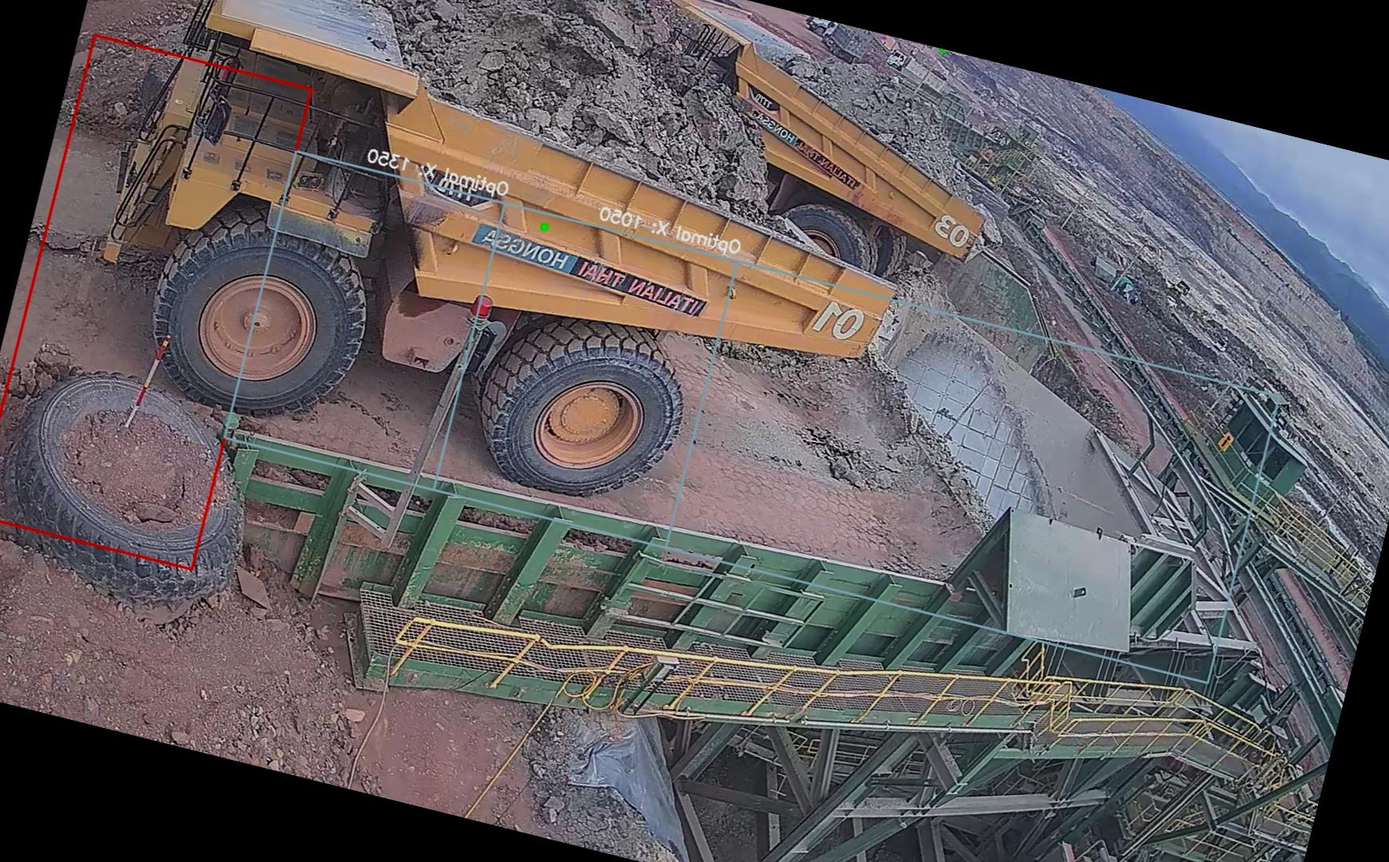company: (450, 215, 724, 324)
full_load: (393, 0, 779, 213)
mining_truck: (58, 0, 961, 560)
tail_number: (797, 284, 876, 355)
